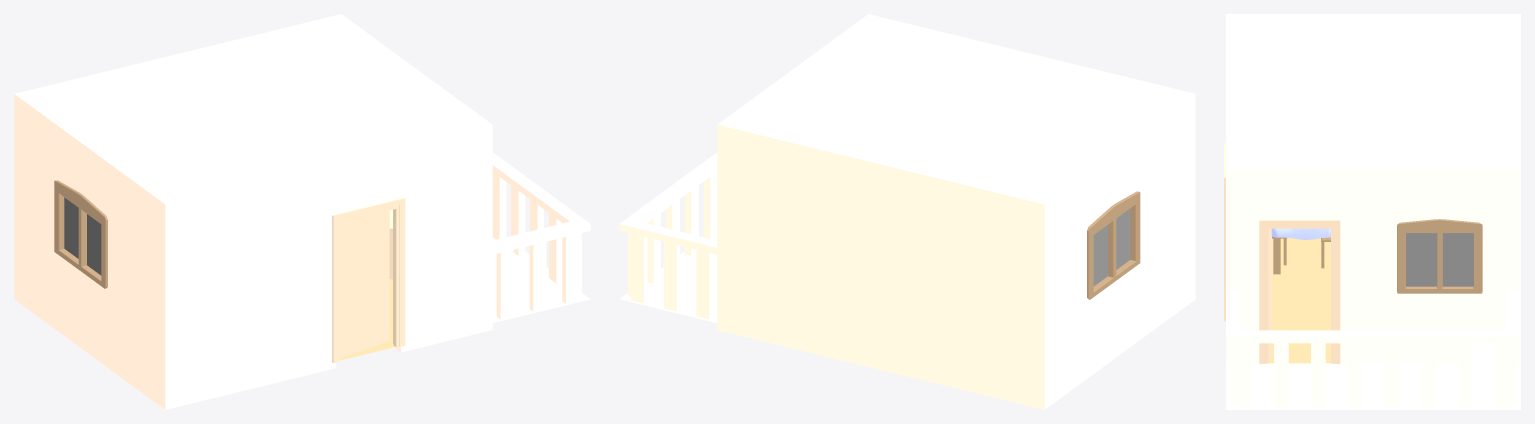
Rendered from kitchen.dae.
3 renders of one model, left to right at view 1: azimuth 30°, elevation 25°; view 2: azimuth 150°, elevation 25°; view 3: azimuth 270°, elevation 25°, orthographic. The views are drawn at different scales.
Parts seen in each view (by area): view 1: Room_Plane.003, Door.000_Plane.011, Fence_Plane.018, Window_1_Plane.005, Room.002_Plane.015, Room.001_Plane.014; view 2: Room_Plane.003, Fence_Plane.018, Window_1_Plane.005, Room.002_Plane.015, Trash_Circle.006; view 3: Room_Plane.003, Fence_Plane.018, Room.002_Plane.015, Window_1.001_Plane.006, Room.001_Plane.014, Door.001_Plane.011, Trash_Circle.006, Mat_Plane.008, Door.000_Plane.011, Table_Plane.001.
Part boxes in pixels (x1=…): Room_Plane.003: x1=14, y1=14, x2=492, y2=409; Door.000_Plane.011: x1=332, y1=197, x2=405, y2=362; Fence_Plane.018: x1=492, y1=152, x2=590, y2=319; Window_1_Plane.005: x1=54, y1=180, x2=107, y2=288; Room.002_Plane.015: x1=492, y1=237, x2=590, y2=322; Room.001_Plane.014: x1=341, y1=279, x2=395, y2=359; Room_Plane.003: x1=717, y1=14, x2=1195, y2=409; Fence_Plane.018: x1=619, y1=152, x2=717, y2=319; Window_1_Plane.005: x1=1087, y1=191, x2=1140, y2=299; Room.002_Plane.015: x1=619, y1=237, x2=717, y2=322; Trash_Circle.006: x1=683, y1=254, x2=717, y2=306; Room_Plane.003: x1=1226, y1=14, x2=1520, y2=363; Fence_Plane.018: x1=1226, y1=290, x2=1520, y2=408; Room.002_Plane.015: x1=1226, y1=363, x2=1520, y2=409; Window_1.001_Plane.006: x1=1397, y1=219, x2=1482, y2=293; Room.001_Plane.014: x1=1268, y1=238, x2=1330, y2=363; Door.001_Plane.011: x1=1259, y1=219, x2=1340, y2=363; Trash_Circle.006: x1=1455, y1=343, x2=1494, y2=383; Mat_Plane.008: x1=1271, y1=228, x2=1330, y2=240; Door.000_Plane.011: x1=1224, y1=143, x2=1225, y2=321; Table_Plane.001: x1=1273, y1=237, x2=1280, y2=274.
Size of what is drawn, in the model's own units: 65.35 by 40.27 by 30.
